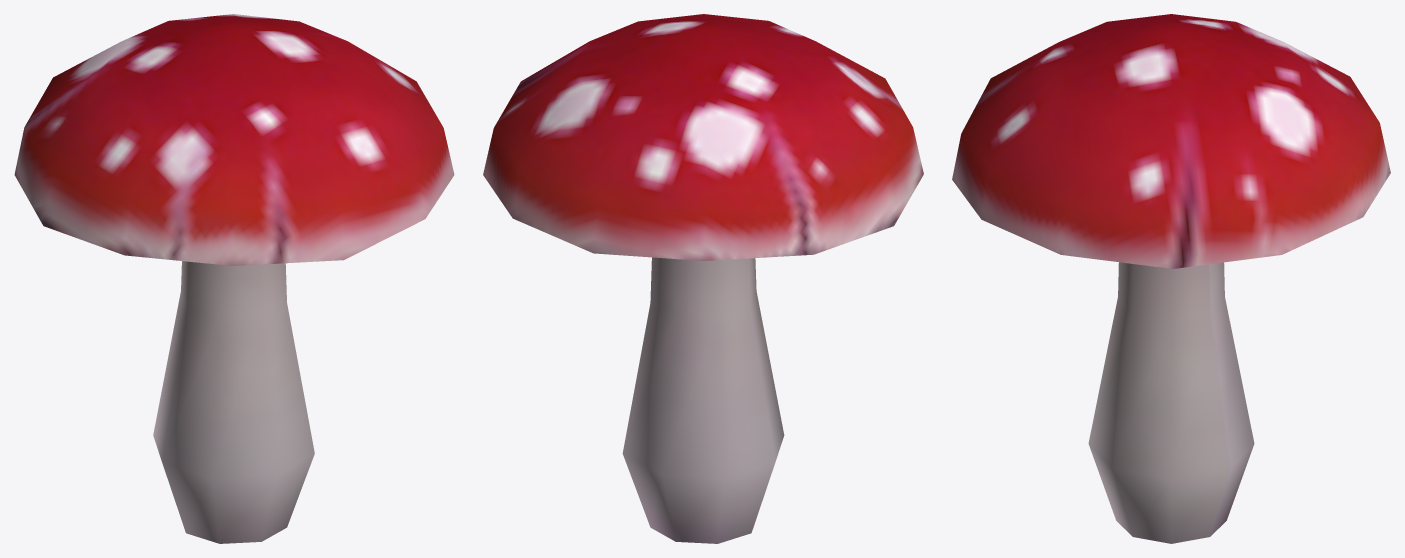
Rendered from Yegesl_mg04.FBX.
3 renders of one model, left to right at view 1: azimuth 30°, elevation 25°; view 2: azimuth 150°, elevation 25°; view 3: azimuth 270°, elevation 25°, orthographic.
Visible parts, largest first — view 1: Yegesl_mg04; view 2: Yegesl_mg04; view 3: Yegesl_mg04.
Part boxes in pixels (left/top/right/bottom): Yegesl_mg04: left=14, top=14, right=454, bottom=543; Yegesl_mg04: left=483, top=14, right=923, bottom=543; Yegesl_mg04: left=952, top=14, right=1390, bottom=543.
Bounding box in the file's own units: 49.01 × 49.01 × 60.34.
